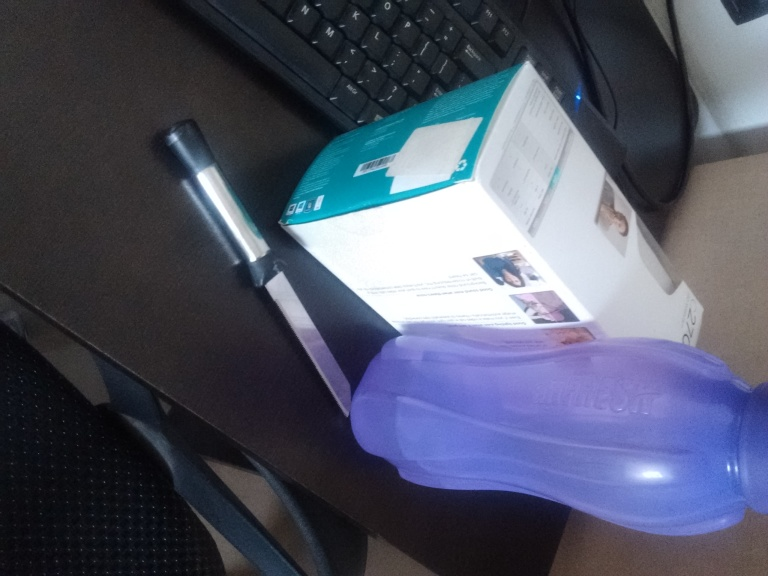knife: (160, 115, 352, 420)
